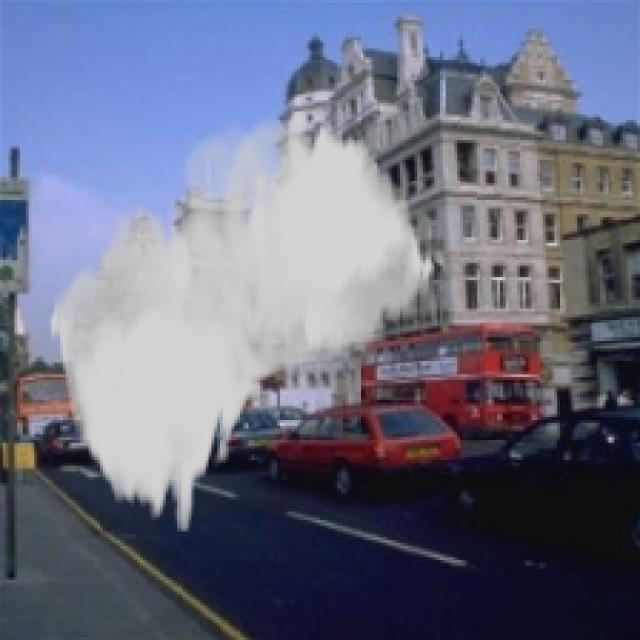Smoke: (49, 109, 438, 532)
